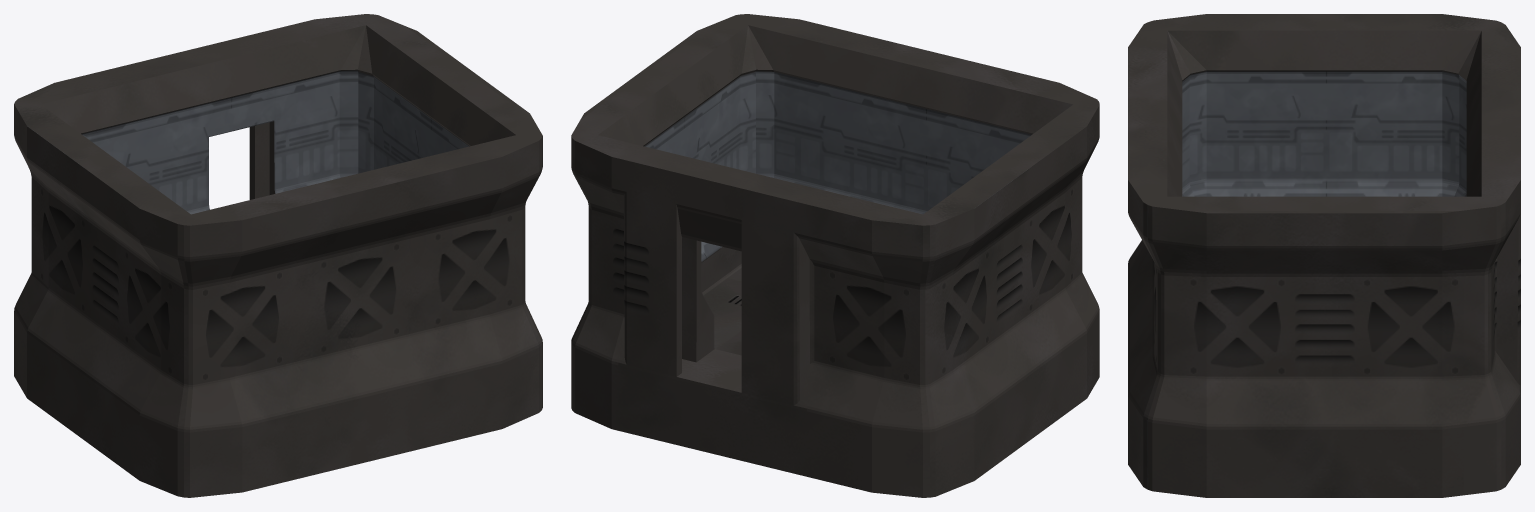
File: captains-cabin-1.obj
3 views of the same model, side by side, from view 1: azimuth 30°, elevation 25°; view 2: azimuth 150°, elevation 25°; view 3: azimuth 270°, elevation 25° (orthographic). The views are drawn at different scales.
Parts seen in each view (by area): view 1: doorFrame01_Cube.001; view 2: doorFrame01_Cube.001; view 3: doorFrame01_Cube.001.
Part boxes in pixels (x1,y1,x2,y2): doorFrame01_Cube.001: [14, 14, 542, 497]; doorFrame01_Cube.001: [571, 14, 1099, 497]; doorFrame01_Cube.001: [1128, 14, 1520, 497].
Size of the model in its own units: 6 by 4 by 5.
1 material, 1 textured.
